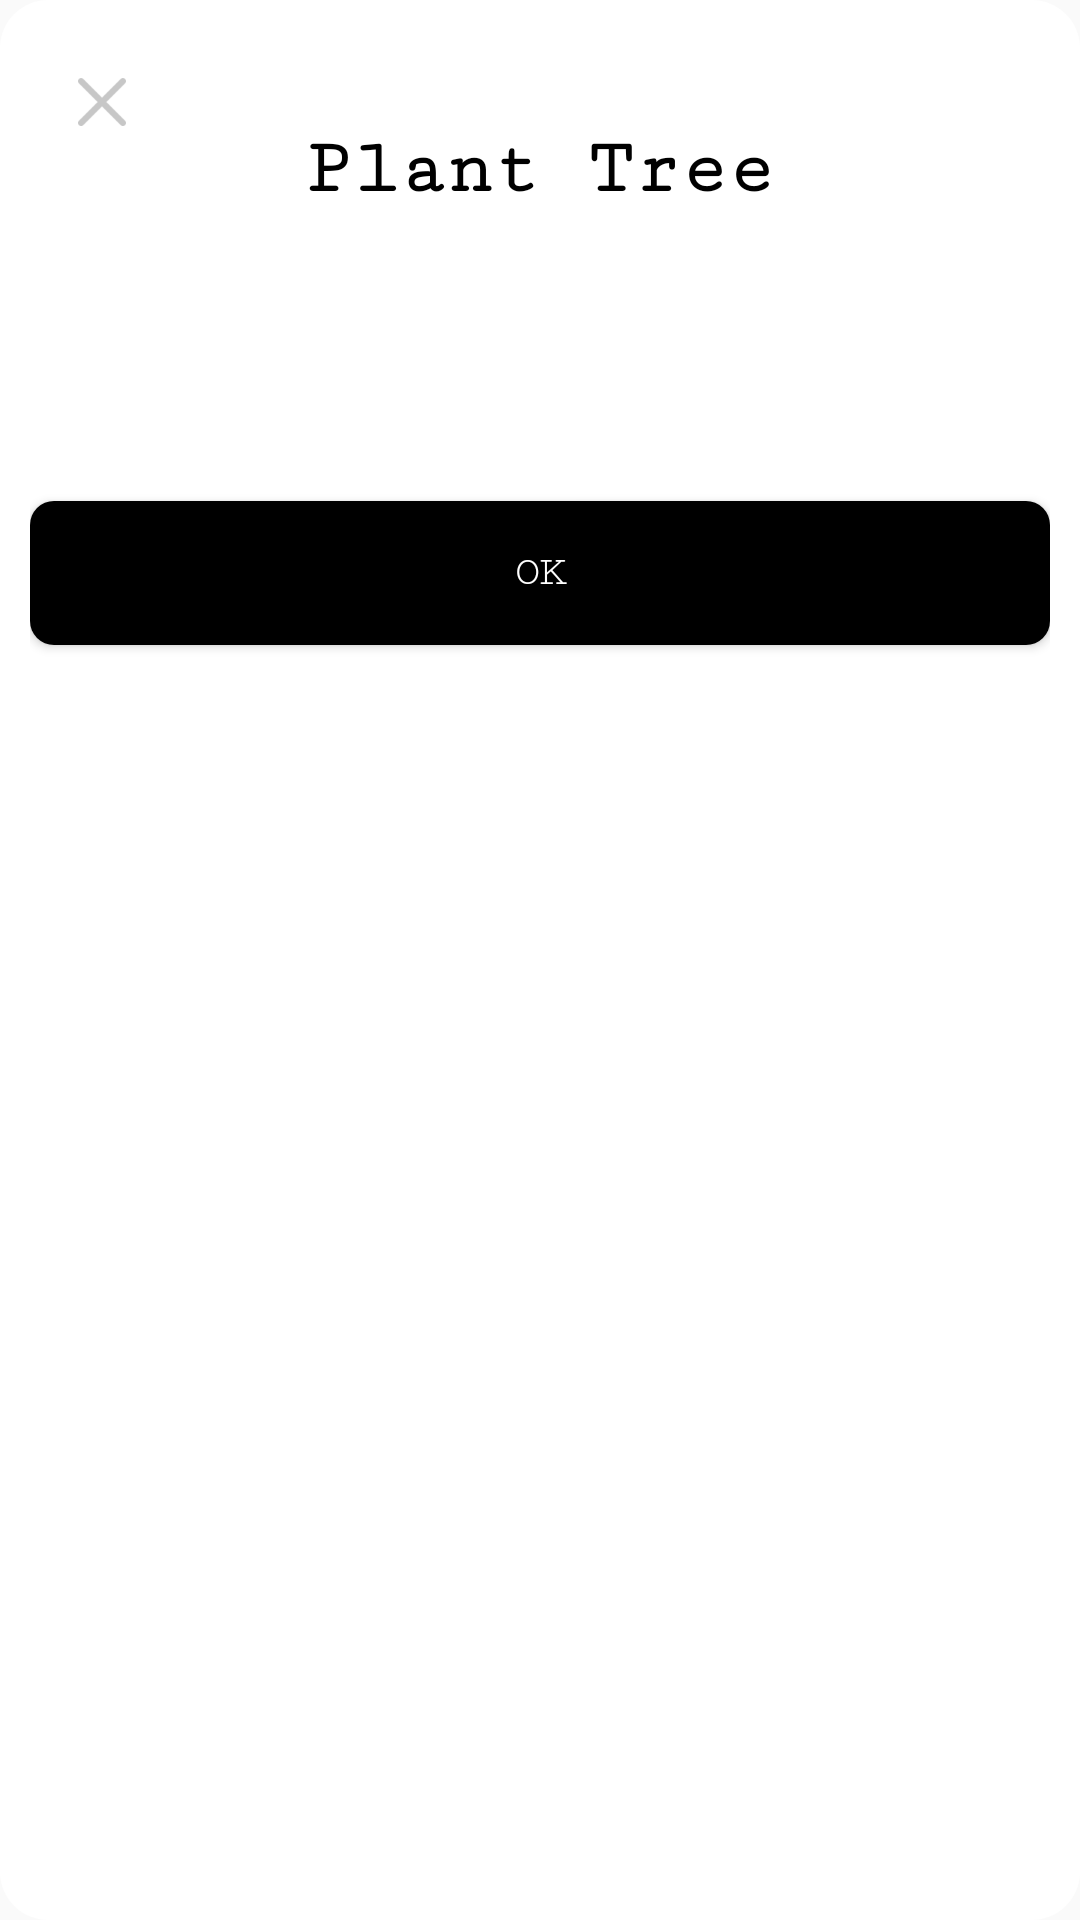

Where icons sit on this 1080x1920 app screen, as (x1, y1, x2, y2):
close: (78, 78, 126, 126)
